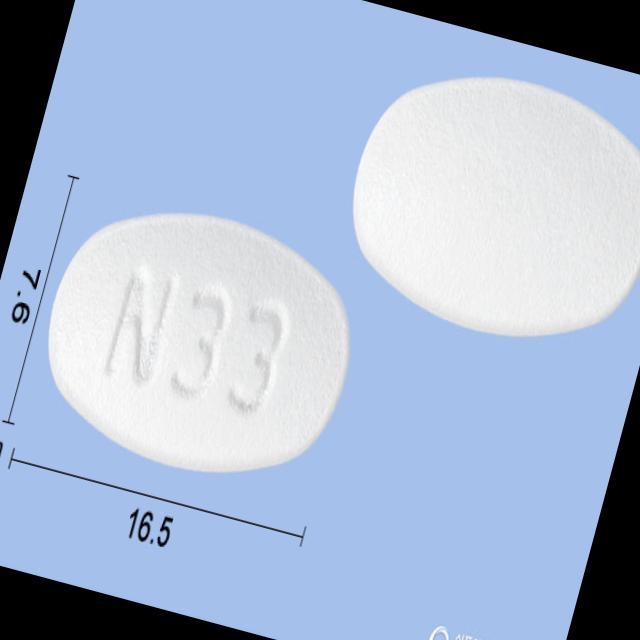Moxiclen Tab: (20, 179, 376, 503)
